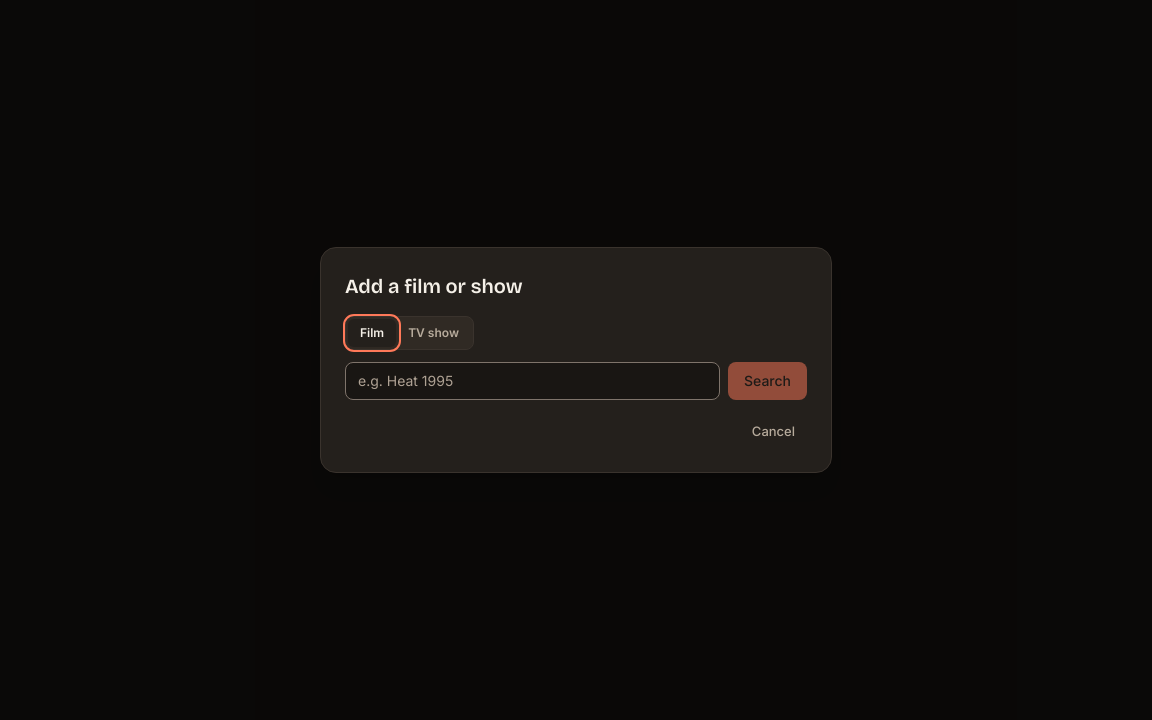
Test: AddTitleModal › shows the duplicate message from the server
The width and height of the screenshot is (1152, 720).
In the field named "Title": (532, 381) 345,362 -> 720,400, type "Heat"
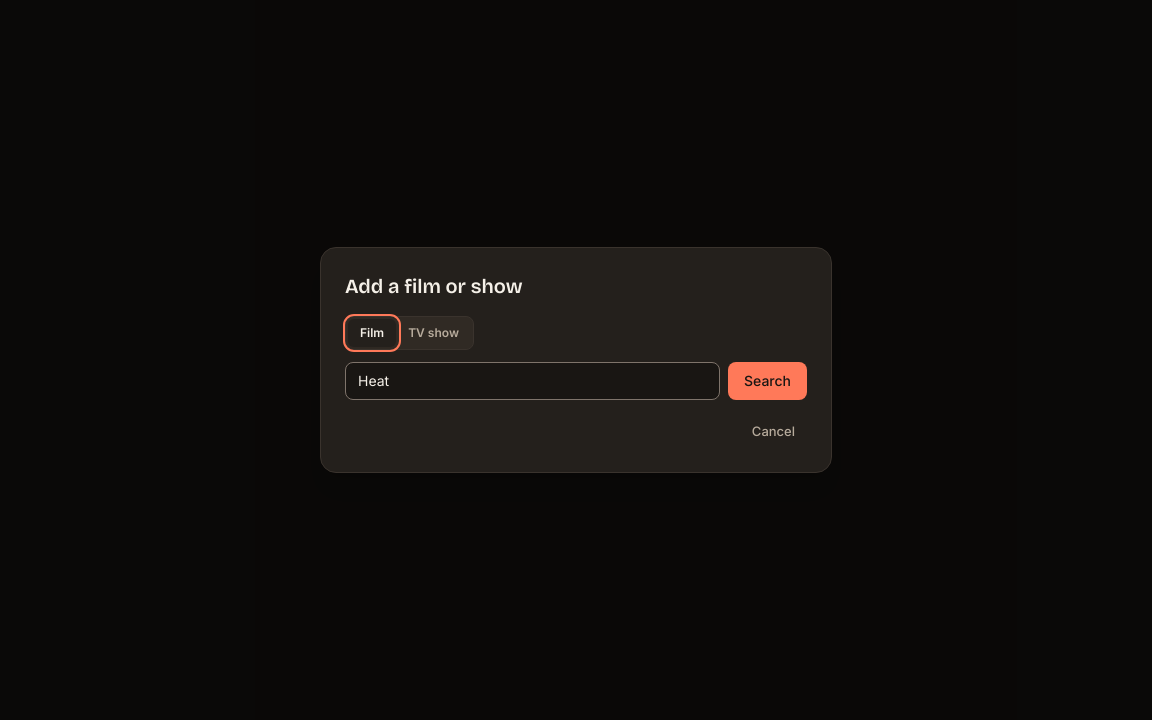
Click the button "Search": (768, 381) 728,362 -> 807,400
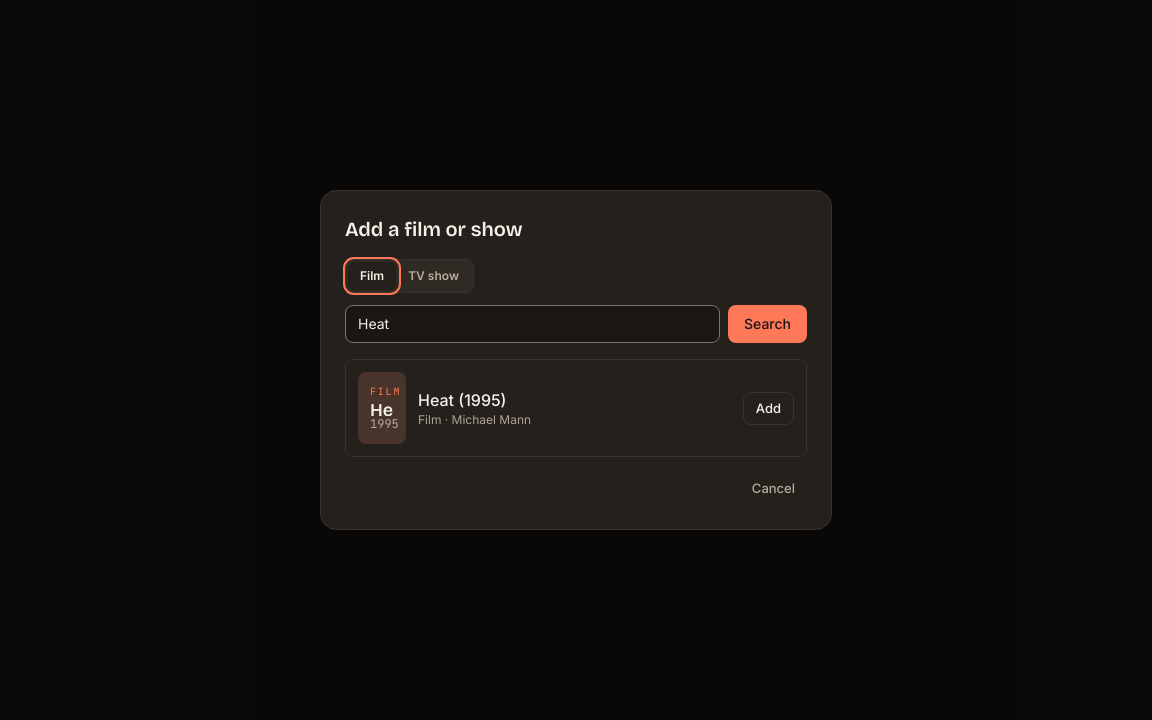
Click the button with aria-label "Add: Heat (1995)": (768, 408) 743,392 -> 794,425
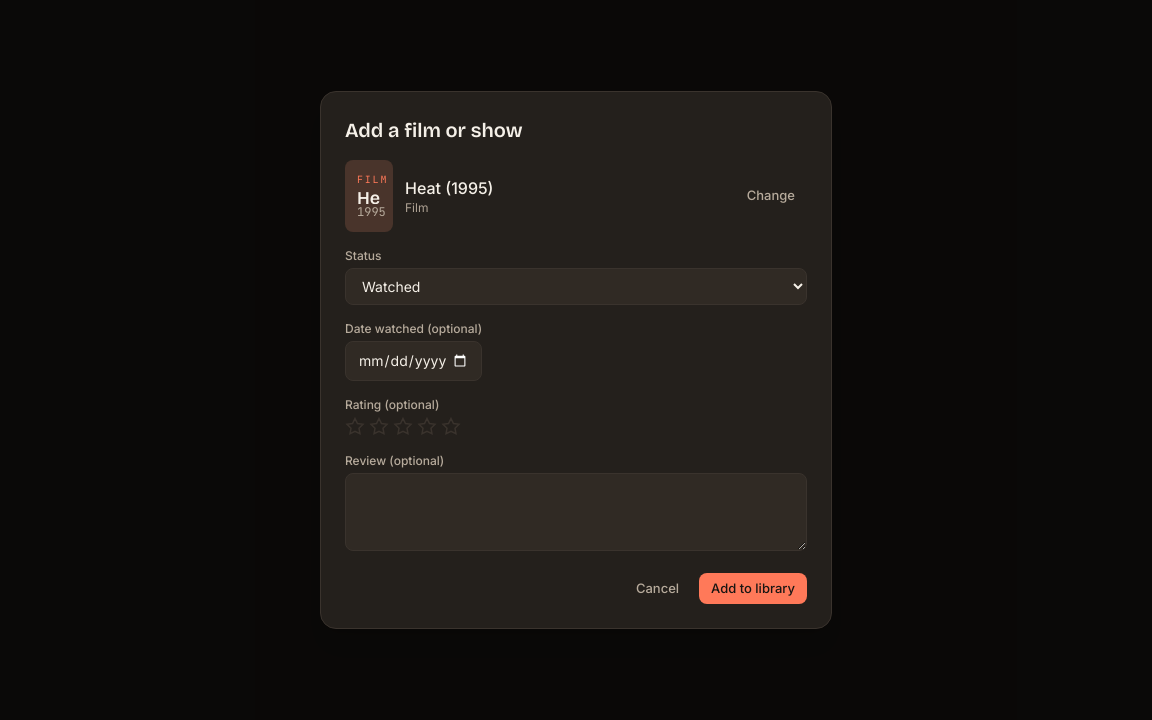
Click the button "Add to library": (753, 589) 699,573 -> 807,604
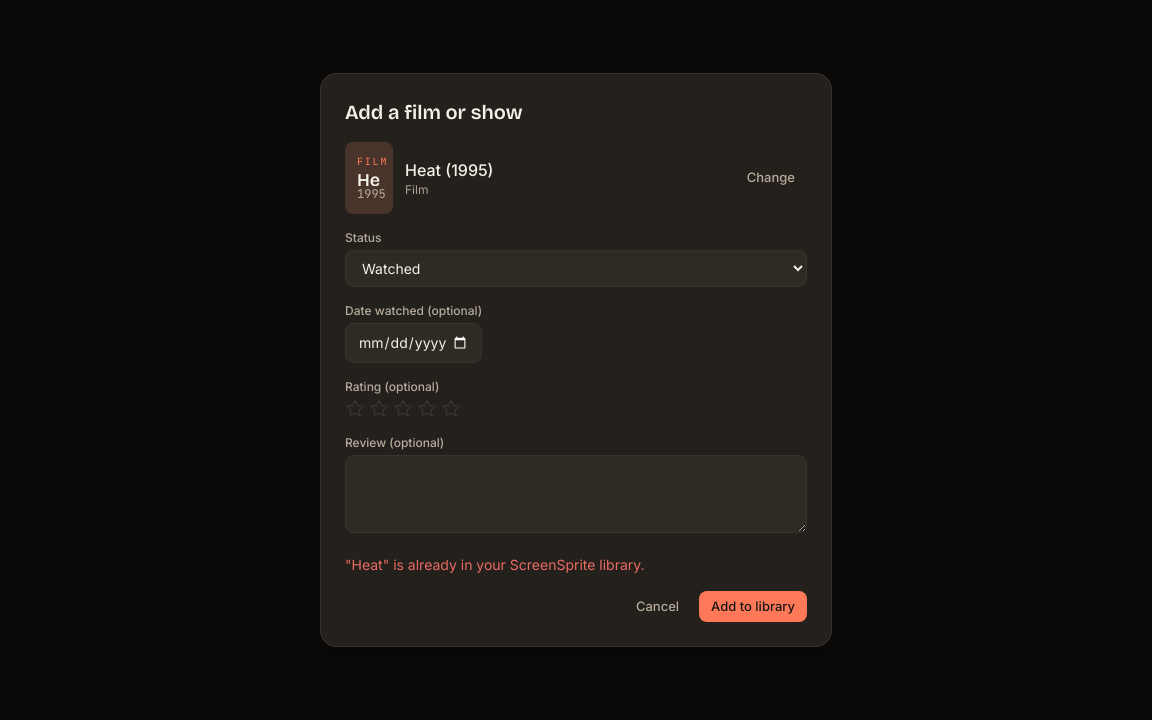
Check: the message reads "\"Heat\" is already in your ScreenSprite library.", box 345,556 -> 645,573
